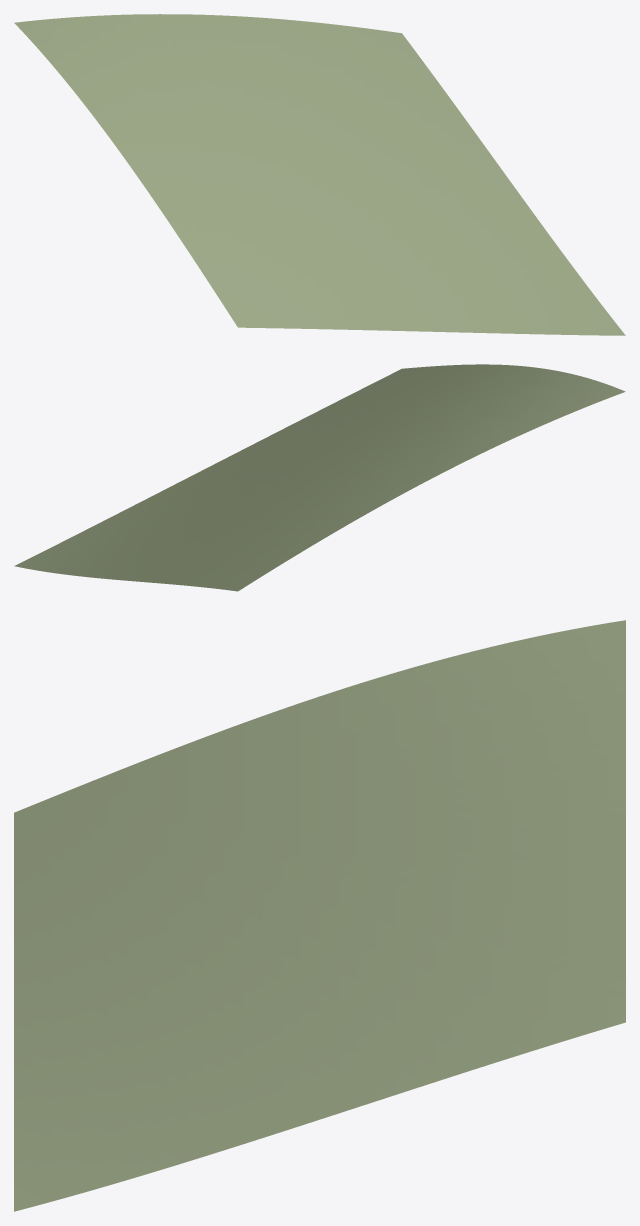
File: expanse-22-8.glb
The picture shows the model from 3 angles, top to bottom: view 1: azimuth 30°, elevation 25°; view 2: azimuth 210°, elevation 25°; view 3: azimuth 270°, elevation 25°; orthographic projection. The views are drawn at different scales.
Parts seen in each view (by area): view 1: expanse-22-8; view 2: expanse-22-8; view 3: expanse-22-8.
Boxes of the visible parts, left/top/right/bottom form: expanse-22-8: left=14, top=14, right=625, bottom=335; expanse-22-8: left=14, top=364, right=625, bottom=591; expanse-22-8: left=14, top=620, right=625, bottom=1211.
Size of the model in its own units: 256 by 154 by 256.
